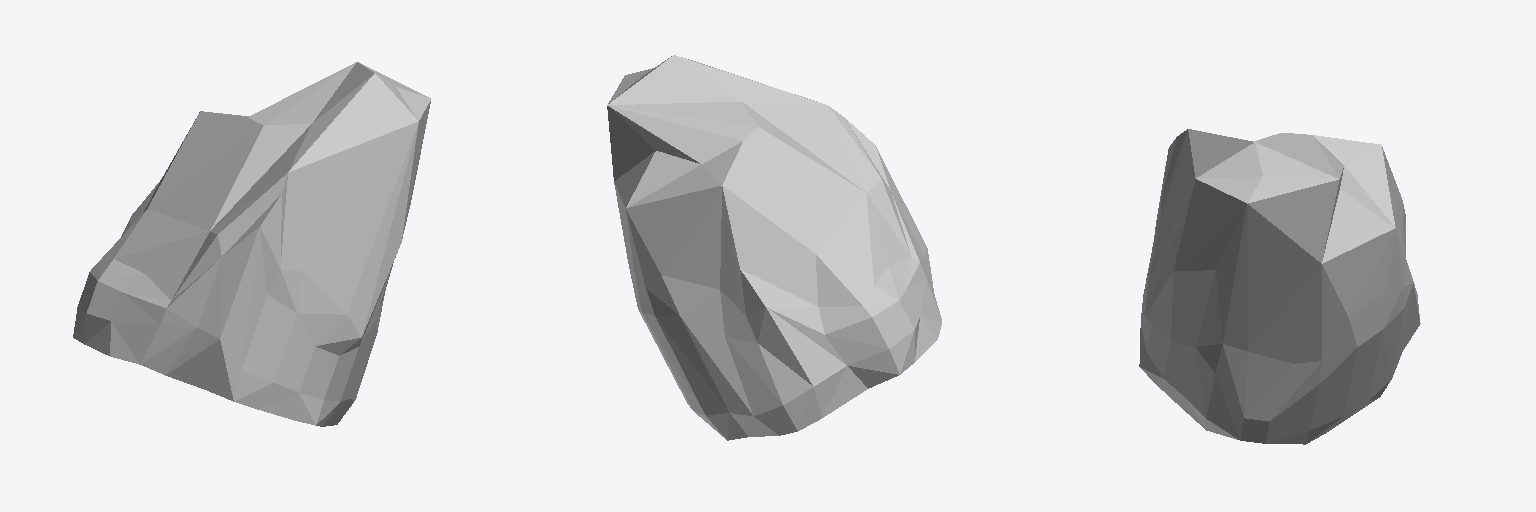
The model's file is roche_2.obj.
3 views of the same model, side by side, from view 1: azimuth 30°, elevation 25°; view 2: azimuth 150°, elevation 25°; view 3: azimuth 270°, elevation 25° (orthographic).
Visible parts, largest first — view 1: Cylinder.015; view 2: Cylinder.015; view 3: Cylinder.015.
Boxes of the visible parts, box(x1,y1,x2,y2) form: Cylinder.015: box(73, 62, 430, 426); Cylinder.015: box(607, 55, 941, 440); Cylinder.015: box(1139, 129, 1420, 444).
Size of the model in its own units: 1.35 by 1.34 by 1.03.